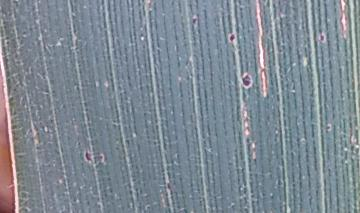tarspot: (239, 70, 255, 91), (225, 30, 239, 47), (82, 147, 94, 165), (317, 28, 329, 46), (190, 13, 199, 31), (162, 180, 174, 193), (325, 120, 333, 135)
